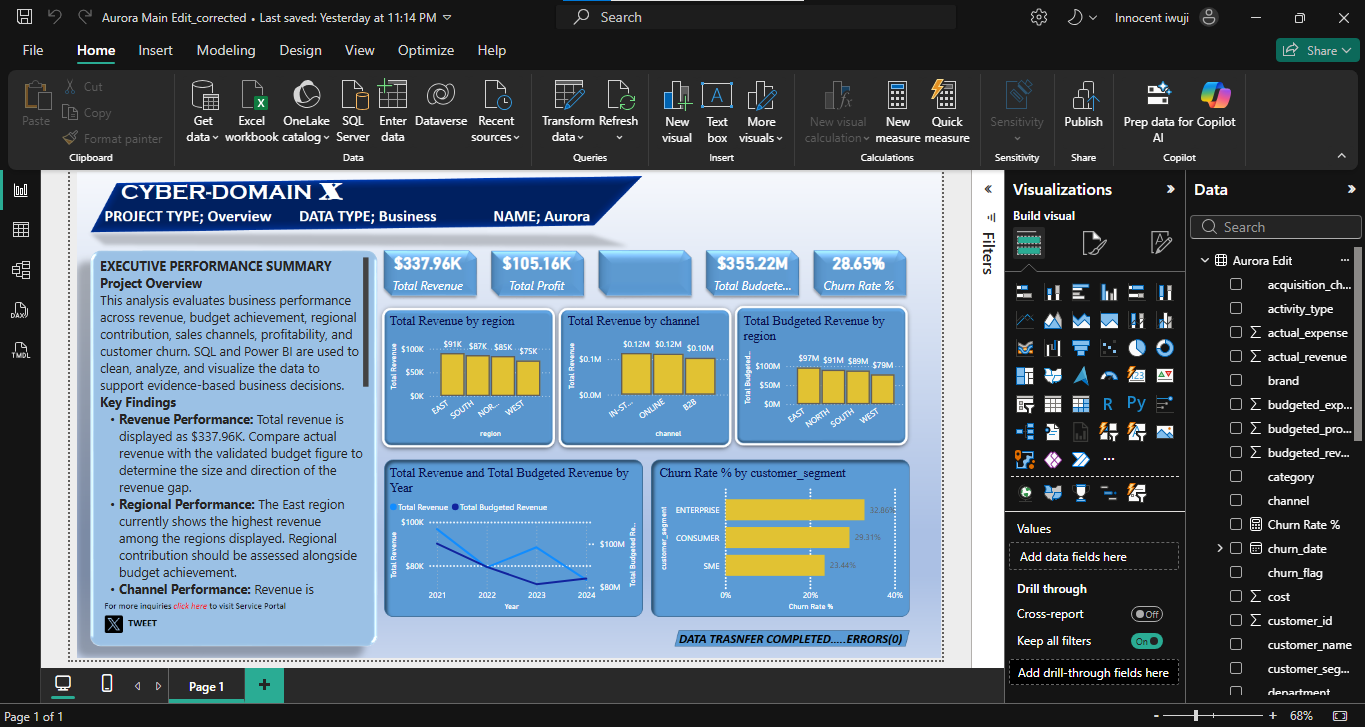

Layout of this report page (visuals, bound fields, positions):
{"tool":"powerbi","page":{"name":"Page 1","canvas":[1280,720],"ordinal":0},"visuals":[{"type":"image","box":[10.3,0,1269.6,720],"z":0},{"type":"card","fields":{"Values":["Aurora Edit.Total Revenue"]},"box":[462.9,113.1,124.9,69.1],"z":1000},{"type":"card","fields":{"Values":["Aurora Edit.Total Profit"]},"box":[623,113.1,124.9,69.1],"z":2000},{"type":"card","fields":{"Values":["Aurora Edit.Total Budgeted Revenue"]},"box":[940.4,113.1,124.9,69.1],"z":3000},{"type":"card","fields":{"Values":["Aurora Edit.Churn Rate"]},"box":[1096.2,113.1,124.9,69.1],"z":4000},{"type":"clusteredColumnChart","fields":{"Category":["Aurora Edit.region"],"Y":["Aurora Edit.Total Revenue"]},"box":[464.3,210.1,246.9,188.1],"z":6000},{"type":"clusteredColumnChart","fields":{"Category":["Aurora Edit.channel"],"Y":["Aurora Edit.Total Revenue"]},"box":[725.9,210.1,246.9,188.1],"z":7000},{"type":"clusteredColumnChart","fields":{"Category":["Aurora Edit.region"],"Y":["Aurora Edit.Total Budgeted Revenue"]},"box":[984.5,210.1,246.9,188.1],"z":8000},{"type":"lineChart","fields":{"Category":["Aurora Edit.transaction_date.Variation.Date Hierarchy.Year","Aurora Edit.transaction_date.Variation.Date Hierarchy.Quarter","Aurora Edit.transaction_date.Variation.Date Hierarchy.Month","Aurora Edit.transaction_date.Variation.Date Hierarchy.Day"],"Y":["Aurora Edit.Total Revenue"],"Y2":["Aurora Edit.Total Budgeted Revenue"]},"box":[464.3,433.5,373.2,218.9],"z":9000},{"type":"barChart","fields":{"Category":["Aurora Edit.customer_segment"],"Y":["Aurora Edit.Churn Rate"]},"box":[861.1,433.5,370.3,218.9],"z":10000},{"type":"textbox","box":[39.7,123.4,404.1,505.5],"z":11000}]}

Visuals, with their boxes on the page's 1280x720 design canvas (x1, y1, x2, y2). These are canvas units, not pixel positions in the 1365x727 screenshot, which may show the page scaled, cropped or inside an application window:
image: 10 0 1280 720
card - Aurora Edit.Total Revenue: 463 113 588 182
card - Aurora Edit.Total Profit: 623 113 748 182
card - Aurora Edit.Total Budgeted Revenue: 940 113 1065 182
card - Aurora Edit.Churn Rate: 1096 113 1221 182
clusteredColumnChart - Aurora Edit.region x Aurora Edit.Total Revenue: 464 210 711 398
clusteredColumnChart - Aurora Edit.channel x Aurora Edit.Total Revenue: 726 210 973 398
clusteredColumnChart - Aurora Edit.region x Aurora Edit.Total Budgeted Revenue: 984 210 1231 398
lineChart - Aurora Edit.transaction_date.Variation.Date Hierarchy.Year x Aurora Edit.transaction_date.Variation.Date Hierarchy.Quarter: 464 434 838 652
barChart - Aurora Edit.customer_segment x Aurora Edit.Churn Rate: 861 434 1231 652
textbox: 40 123 444 629
